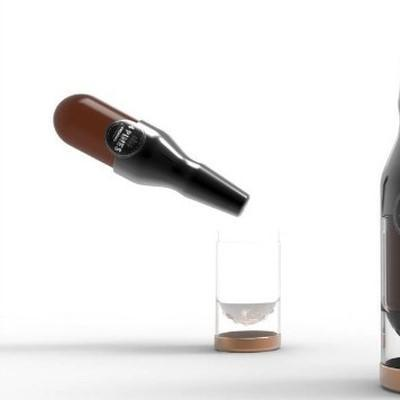beer: (49, 93, 252, 222)
